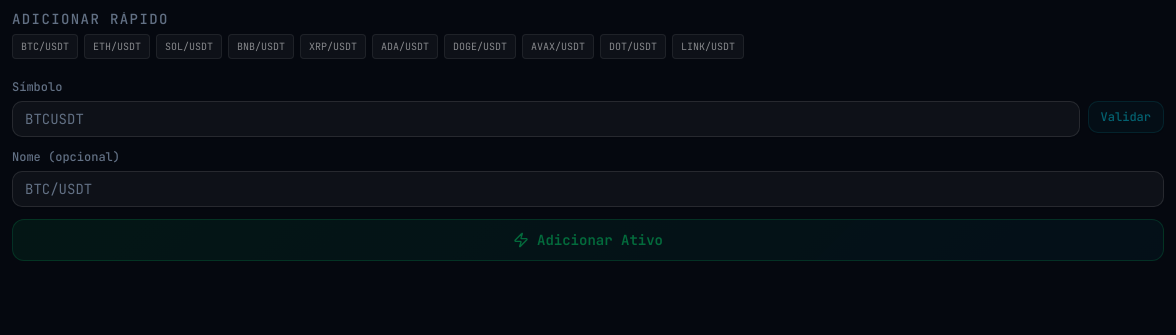
it: AddAssetForm — erros explicam causa provável (Round 3 pós-Raio-X) › REGRESSÃO: falha ao adicionar ativo mostra "verifique sua conexão e tente de novo"
Click the button "BTC/USDT". click: (45, 46)
box: [12,34,78,59]
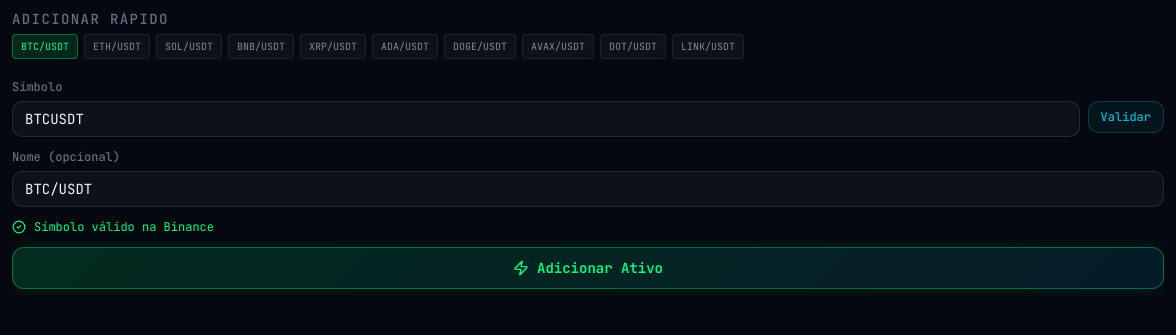
Click the button "Adicionar Ativo". click: (588, 268)
box: [12,247,1164,289]
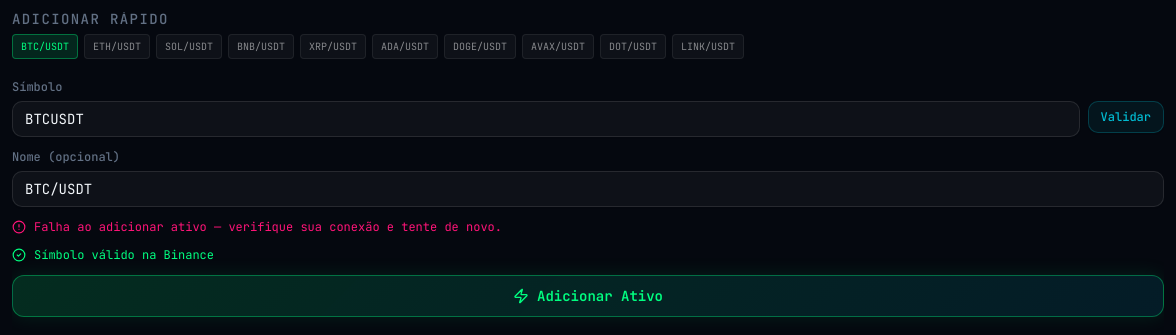
Check: the text "verifique sua conexão e tente de novo" is shown, box [34,219,502,235]
